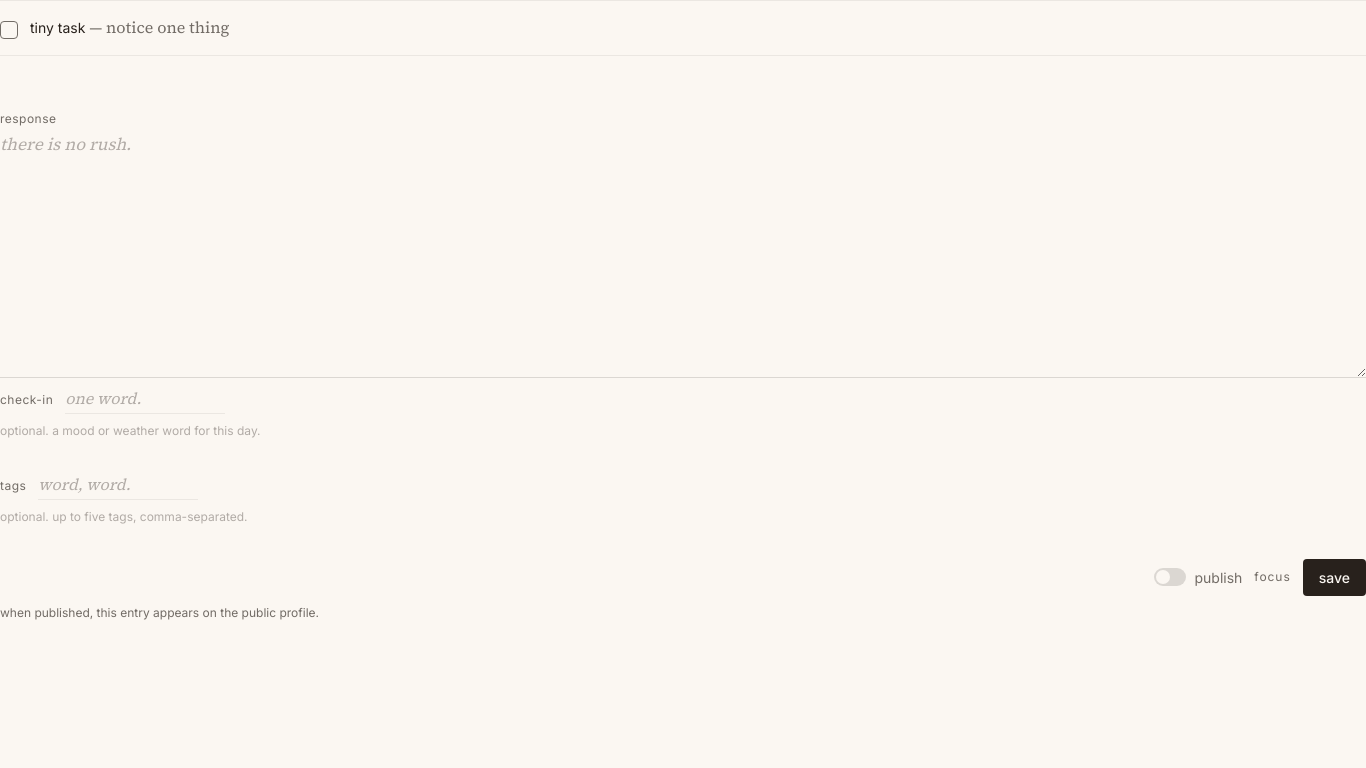
Test: focus mode › textarea in focus overlay shares state with the main textarea
Step 1. Type "hello world" into the text box labelled "response" → [683, 254], box [0, 130, 1365, 378]
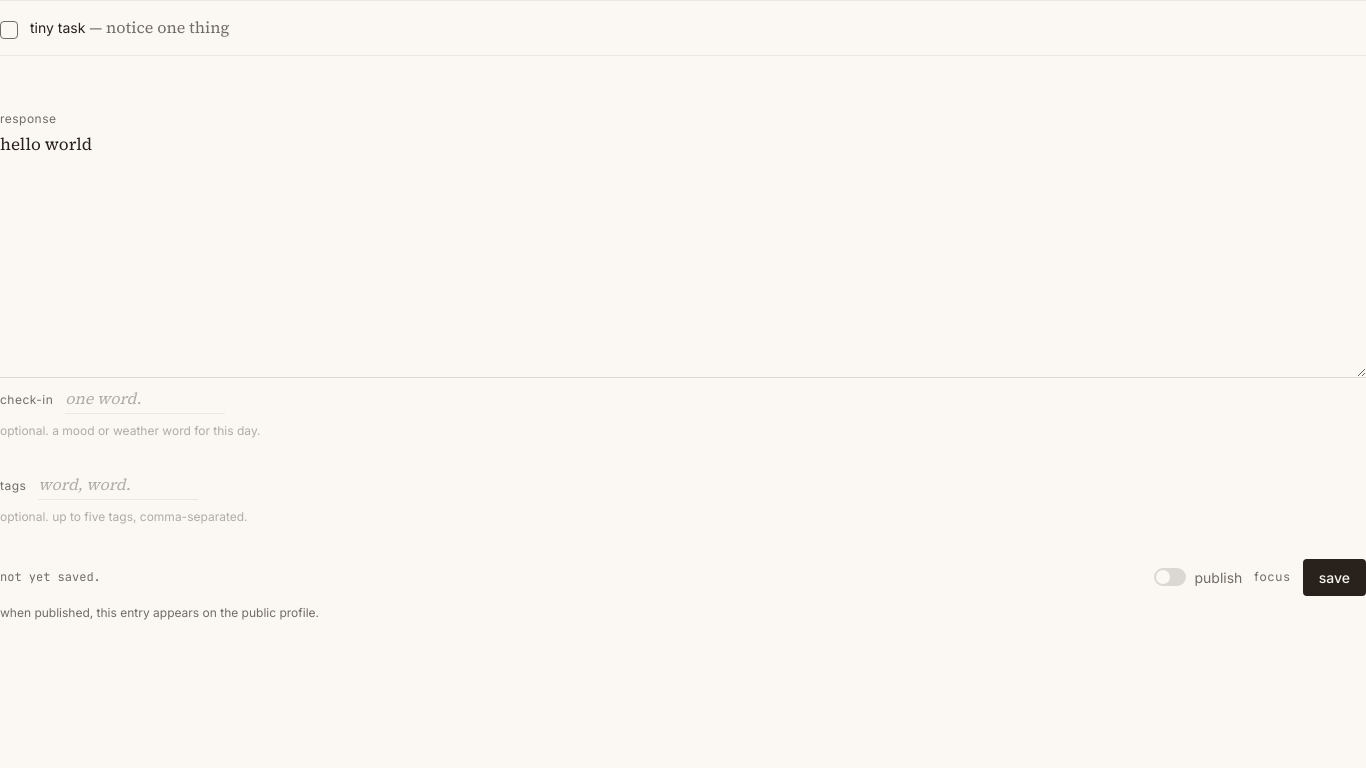
Step 2. Click the button with aria-label "enters a distraction-free writing view." → [1272, 577], box [1254, 568, 1291, 587]
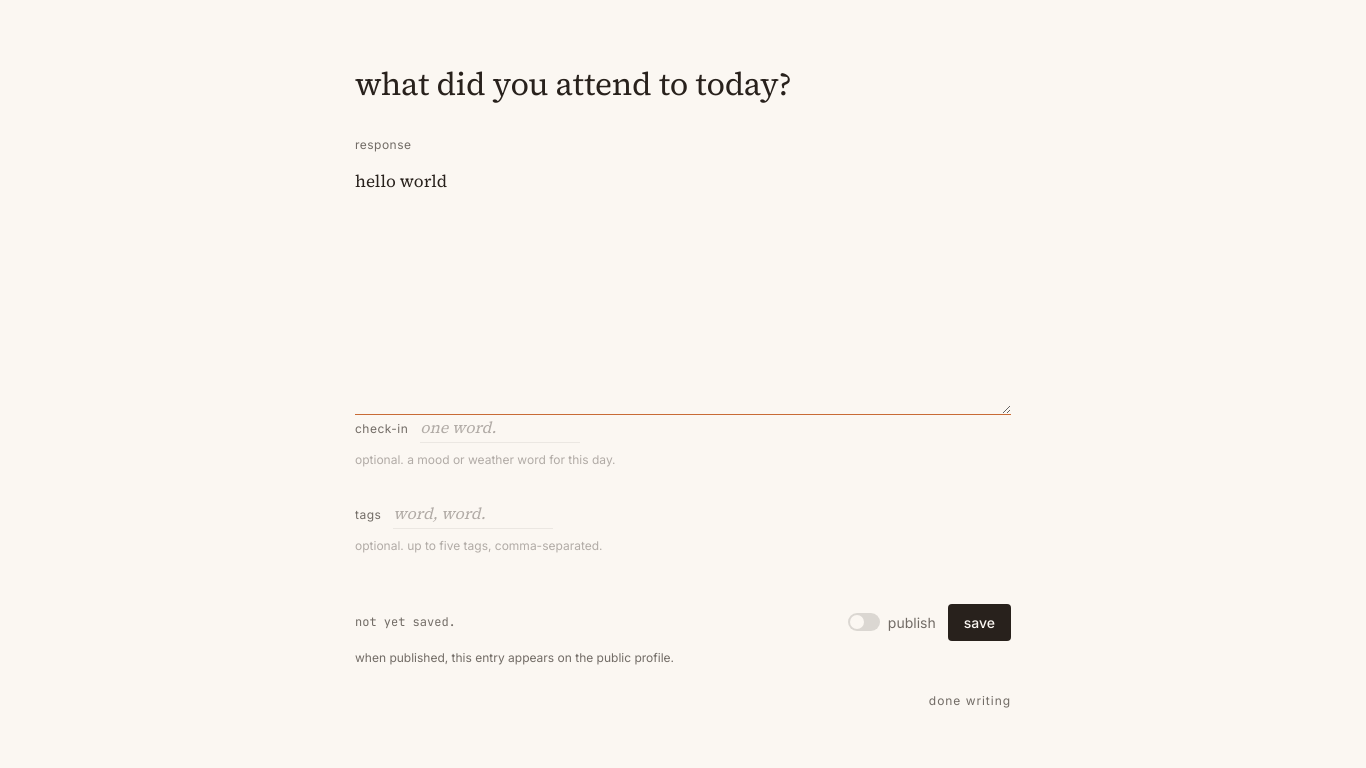
Expected: the text box labelled "response" holds "hello world", [355, 167, 1011, 415]
